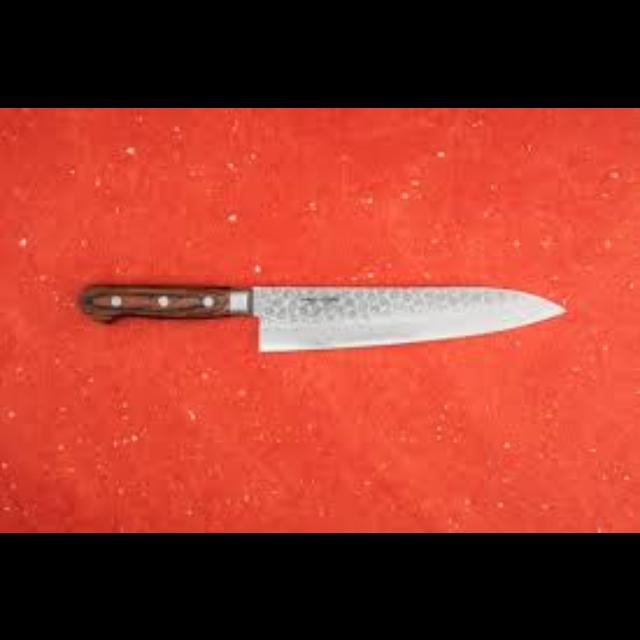Knife: (79, 282, 565, 351)
